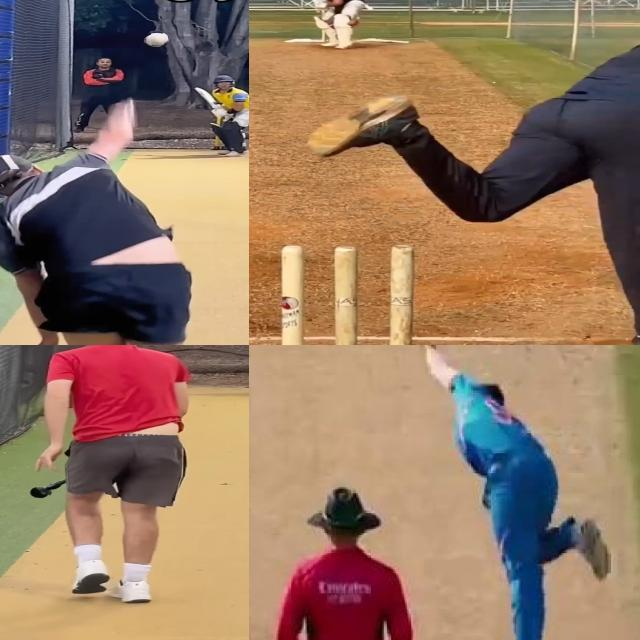Cricket ball: (144, 33, 168, 47), (346, 20, 360, 27)
Stumps: (279, 244, 414, 345)
